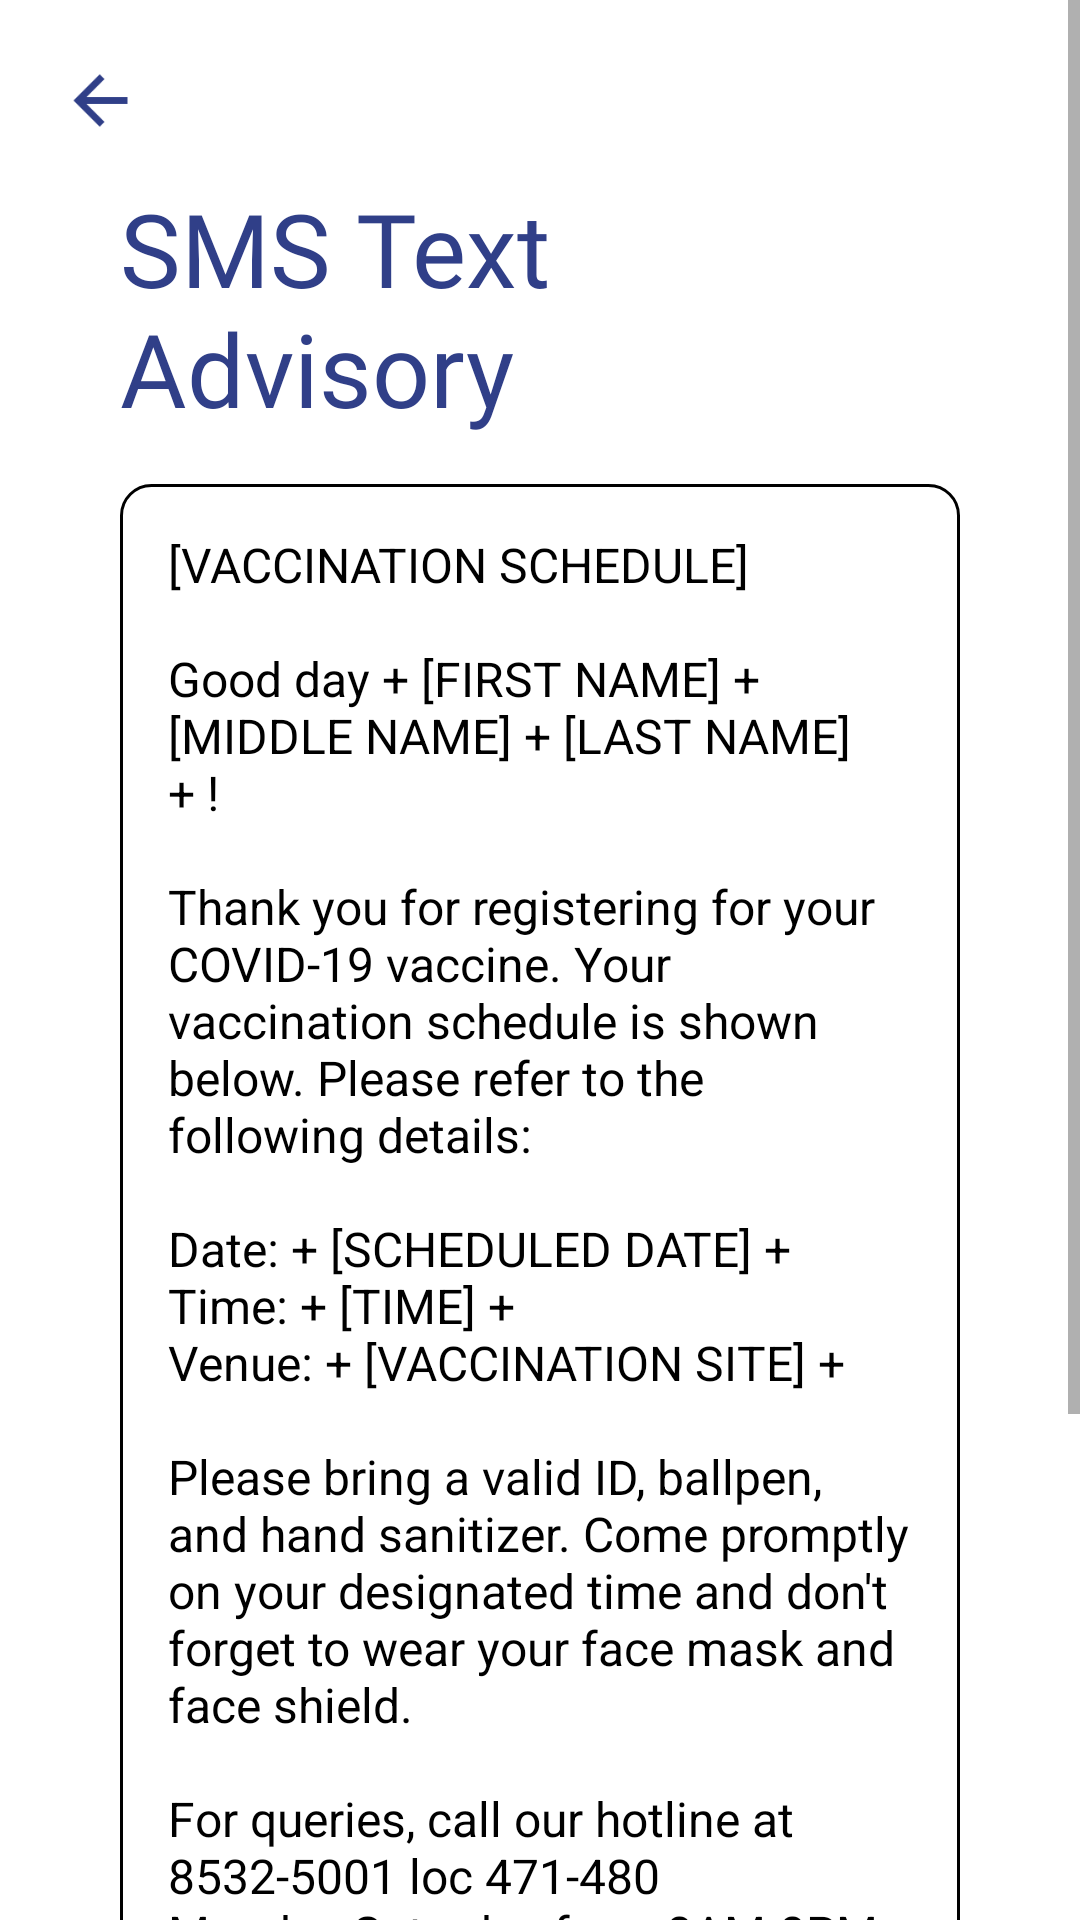

Icon click points for this 1080 × 1920 phone screenshot, format point (x, y):
back: point (100, 100)
